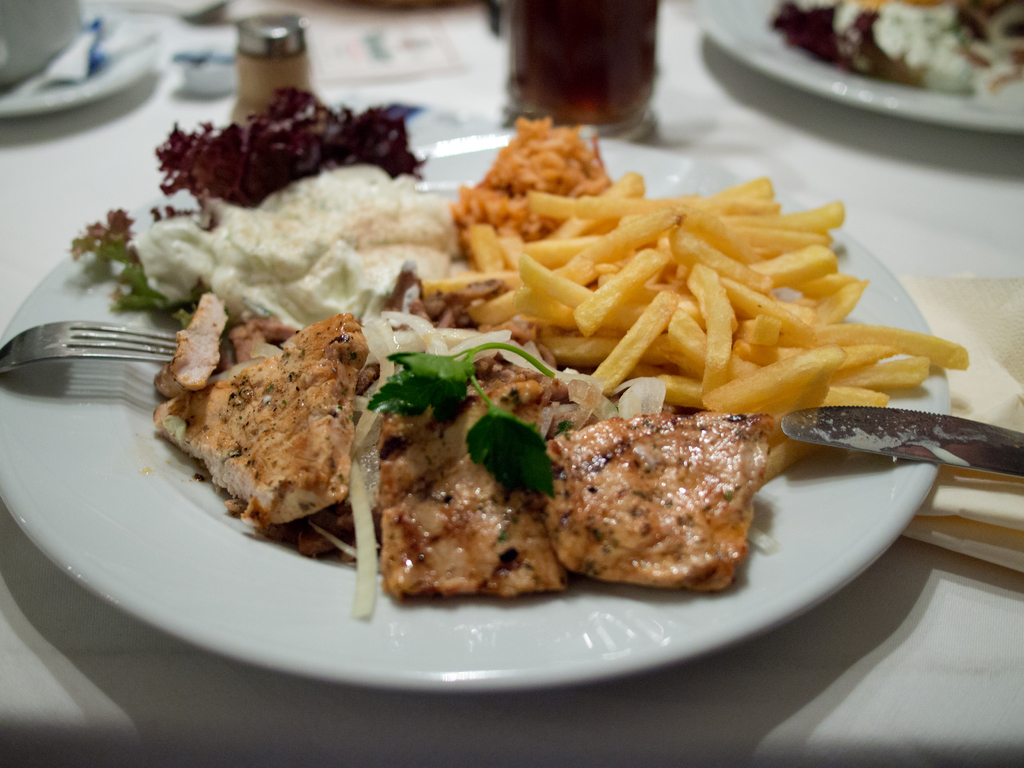French fries: (453, 145, 928, 432)
